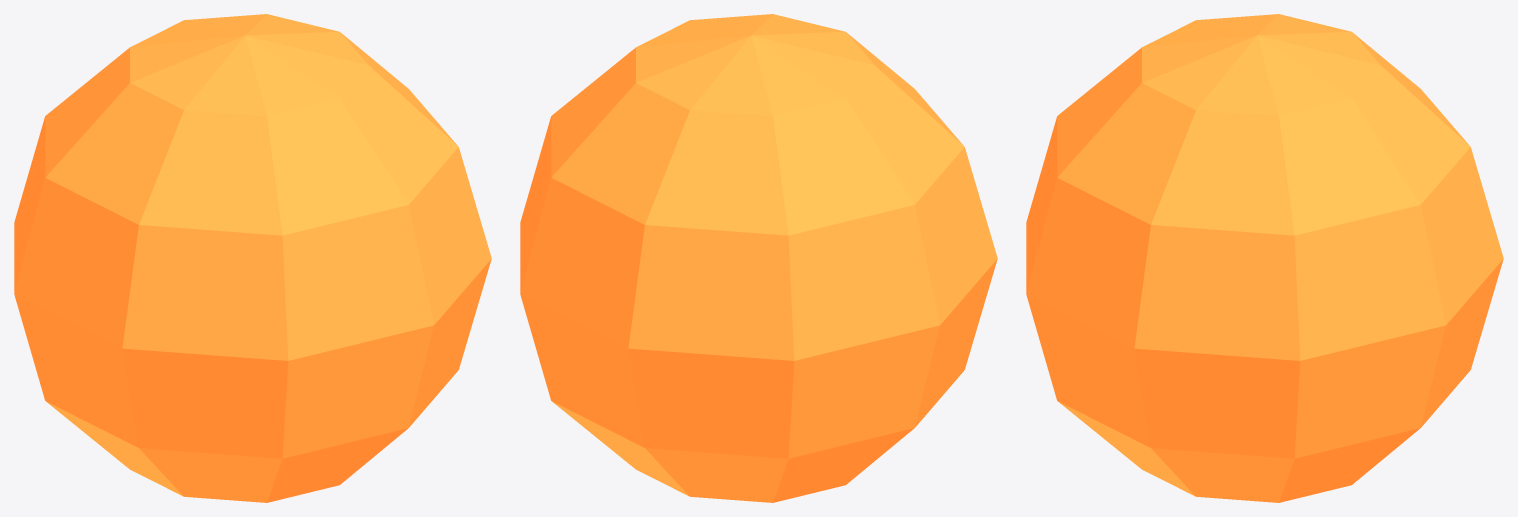
File: path_marker.glb
3 views of the same model, side by side, from view 1: azimuth 30°, elevation 25°; view 2: azimuth 150°, elevation 25°; view 3: azimuth 270°, elevation 25° (orthographic).
Visible parts, largest first — view 1: point; view 2: point; view 3: point.
Part boxes in pixels (x1,y1,x2,y2): point: (14,14,491,502); point: (520,14,997,502); point: (1026,14,1503,502).
Size of the model in its own units: 0.0229 by 0.0233 by 0.0226.
